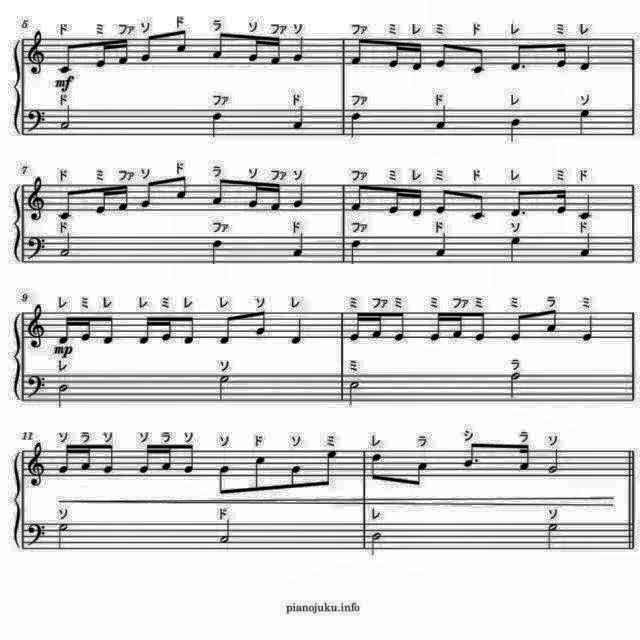Bass-clef: (24, 372, 48, 402), (25, 519, 49, 549), (24, 234, 48, 262), (26, 106, 50, 134)
Eighth-note: (321, 449, 344, 493), (250, 454, 270, 498), (56, 41, 78, 78), (506, 40, 528, 76), (506, 187, 528, 221), (57, 188, 77, 224), (506, 312, 526, 348), (214, 464, 234, 500), (216, 314, 236, 350), (410, 460, 432, 492), (458, 442, 482, 471), (138, 179, 158, 213), (138, 33, 158, 67), (180, 312, 198, 348), (100, 312, 118, 348), (432, 184, 452, 216), (368, 450, 388, 482), (210, 178, 230, 210), (468, 190, 487, 223), (99, 441, 117, 475), (468, 44, 487, 76), (433, 38, 451, 70), (349, 181, 367, 213), (174, 177, 193, 206), (181, 443, 197, 477), (287, 463, 305, 493), (175, 25, 193, 55), (253, 311, 271, 341), (541, 307, 559, 337), (349, 34, 367, 64), (210, 30, 228, 60), (392, 310, 408, 342), (472, 310, 488, 342)
Half-note: (214, 372, 233, 403), (543, 520, 561, 552), (217, 516, 236, 546), (368, 528, 386, 558), (506, 369, 522, 399), (346, 379, 362, 409), (56, 521, 72, 551), (59, 231, 76, 259), (56, 382, 72, 411), (544, 446, 560, 474), (59, 103, 75, 131)
Quarter-note: (580, 313, 600, 345), (575, 190, 595, 222), (288, 316, 306, 348), (507, 234, 525, 266), (578, 44, 596, 74), (432, 230, 450, 260), (207, 109, 225, 139), (432, 103, 450, 131), (289, 232, 307, 260), (578, 232, 596, 260), (208, 238, 226, 266), (290, 179, 306, 209), (290, 33, 306, 63), (578, 107, 594, 137), (289, 104, 307, 130), (508, 115, 524, 144), (348, 112, 364, 140), (348, 238, 364, 266)
Sixteenth-note: (92, 184, 111, 220), (410, 40, 428, 76), (56, 442, 74, 478), (386, 40, 406, 72), (347, 310, 365, 344), (136, 443, 154, 477), (426, 310, 444, 344), (136, 314, 154, 348), (514, 444, 534, 474), (409, 186, 426, 220), (553, 184, 571, 216), (383, 186, 401, 218), (93, 38, 111, 70), (268, 36, 286, 68), (57, 314, 75, 346), (118, 182, 134, 216), (247, 180, 265, 210), (243, 32, 261, 62), (552, 38, 568, 70), (80, 444, 96, 476), (268, 180, 284, 212), (118, 38, 134, 70), (160, 313, 176, 343), (368, 310, 384, 340), (160, 444, 176, 474), (450, 309, 466, 339), (78, 313, 94, 343)
Treble-clef: (23, 26, 47, 76), (26, 301, 50, 351), (23, 442, 47, 492), (24, 176, 48, 224)
